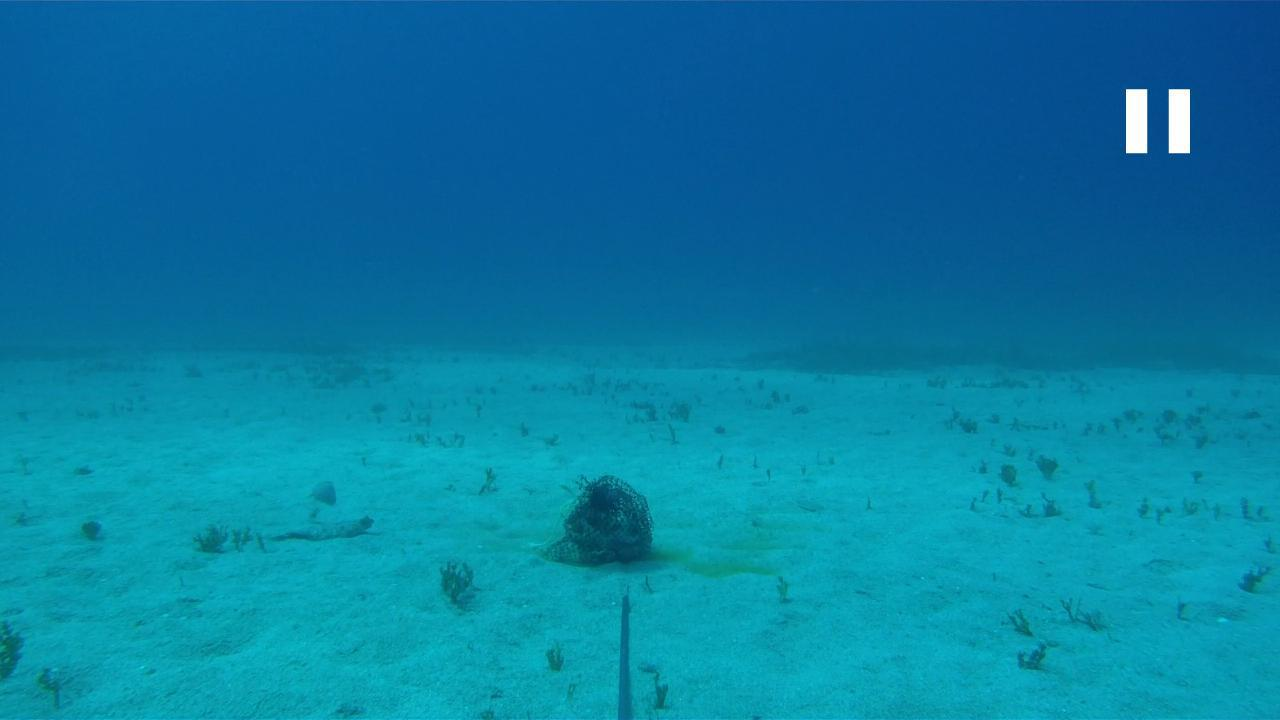bothus: (261, 512, 376, 542)
